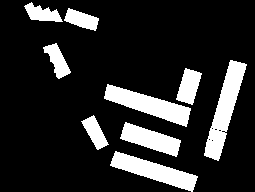parkingspot: (104, 84, 190, 126), (110, 151, 197, 191), (211, 60, 246, 131), (120, 122, 180, 156), (43, 43, 70, 78), (81, 115, 108, 149), (176, 68, 201, 104), (64, 8, 98, 30), (24, 2, 62, 21), (204, 139, 223, 160), (208, 128, 226, 143)
